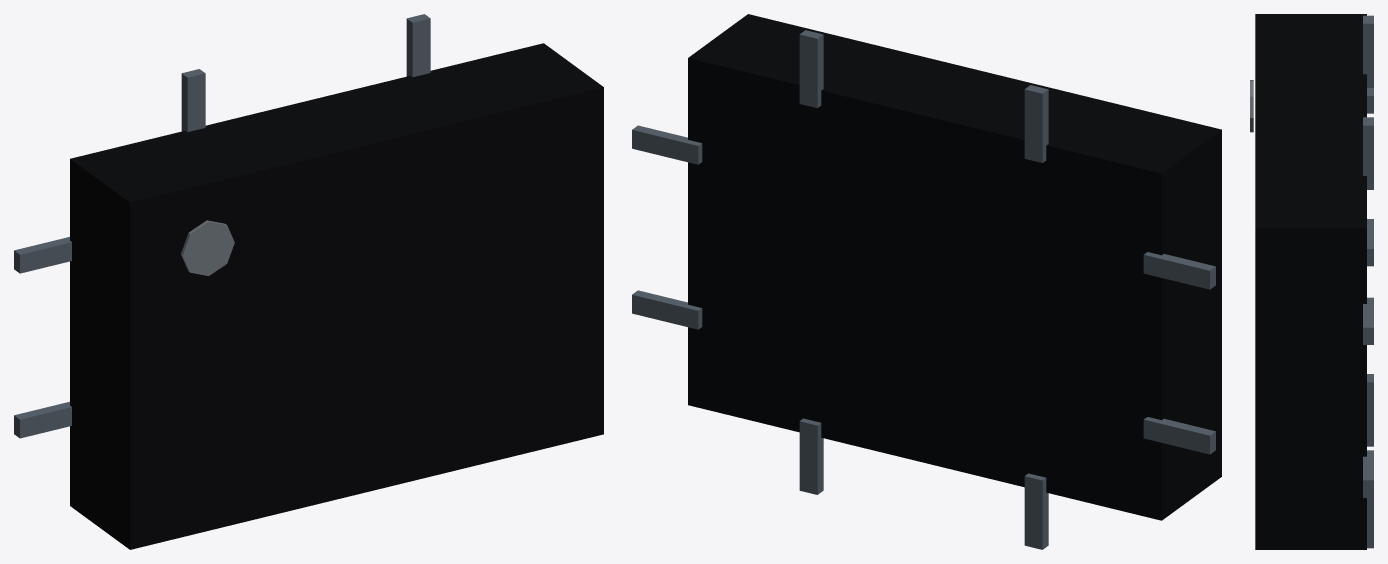
3 renders of one model, left to right at view 1: azimuth 30°, elevation 25°; view 2: azimuth 150°, elevation 25°; view 3: azimuth 270°, elevation 25°, orthographic. The views are drawn at different scales.
Parts seen in each view (by area): view 1: EPOXY, SOLDER, SILK; view 2: EPOXY, SOLDER; view 3: EPOXY, SOLDER, SILK.
Boxes of the visible parts, <box> form: EPOXY: <box>70,43,603,549</box>; SOLDER: <box>14,14,430,438</box>; SILK: <box>181,220,234,276</box>; EPOXY: <box>688,14,1221,520</box>; SOLDER: <box>632,30,1215,549</box>; EPOXY: <box>1255,14,1366,549</box>; SOLDER: <box>1363,15,1373,548</box>; SILK: <box>1250,80,1253,132</box>.
Bounding box in the file's own units: 0.0122 × 0.0092 × 0.00245.
